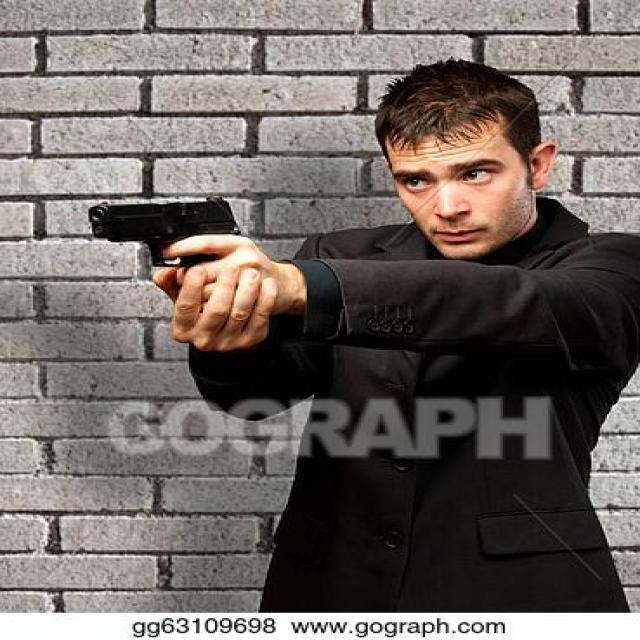HandGun: (92, 197, 241, 268)
